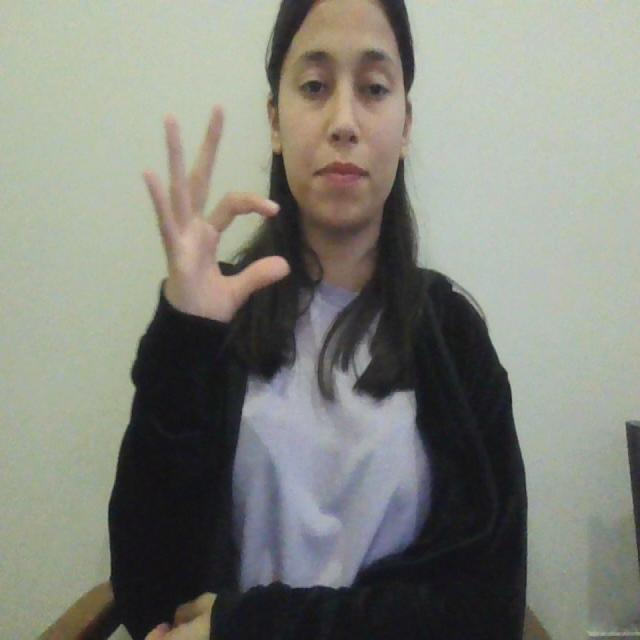Tuvalet: (117, 100, 297, 353)
